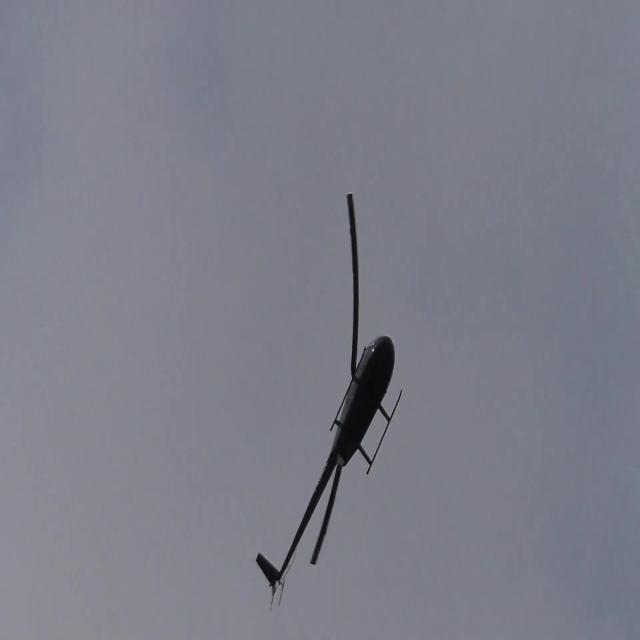CIV_HELO: (255, 334, 403, 590)
